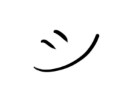shi: (30, 23, 101, 77)
